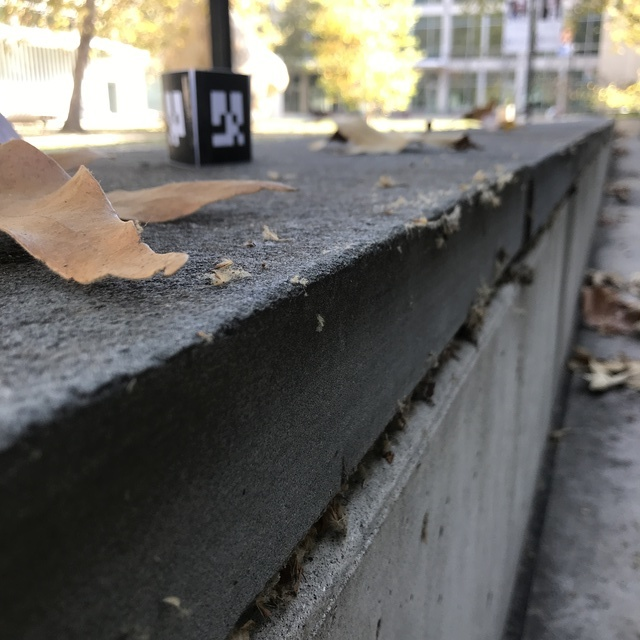ARTag: (160, 71, 252, 167)
